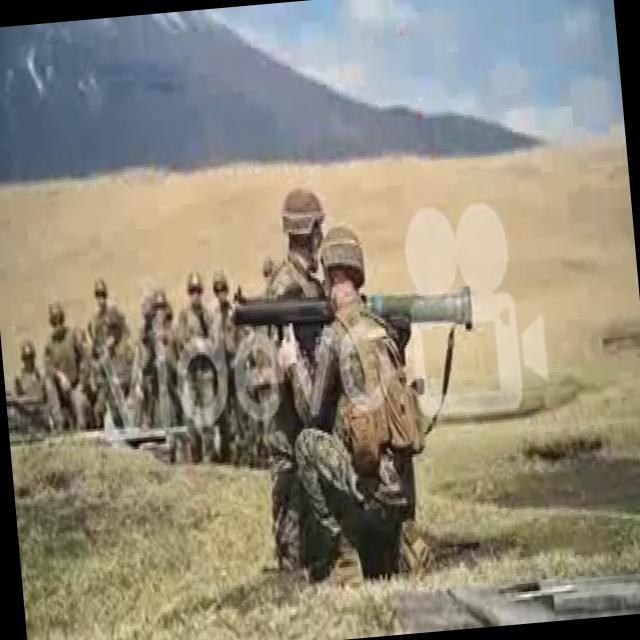rocket: (227, 266, 474, 356)
